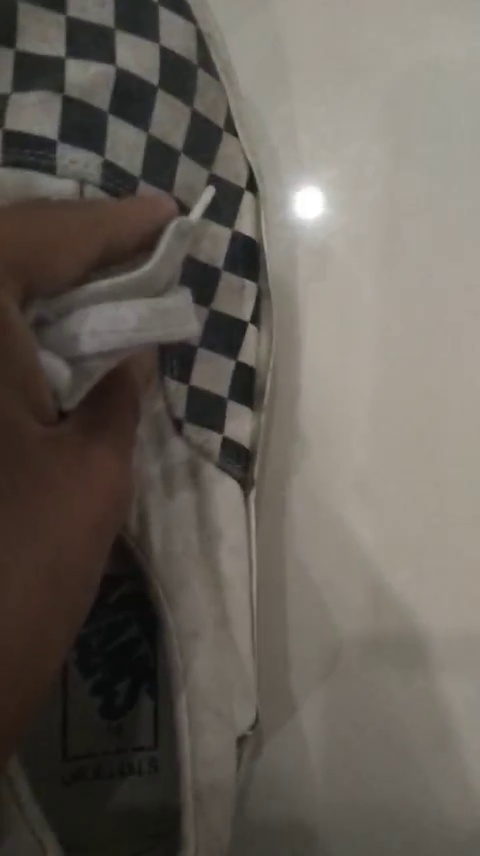bonding: (252, 191, 281, 466)
